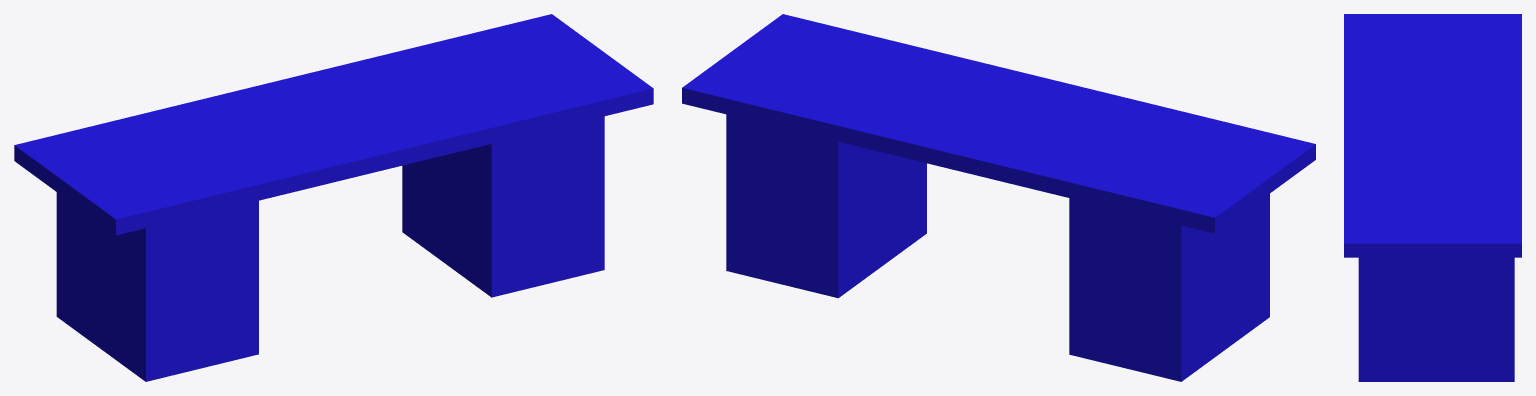
The model's file is POC_bureau.glb.
3 renders of one model, left to right at view 1: azimuth 30°, elevation 25°; view 2: azimuth 150°, elevation 25°; view 3: azimuth 270°, elevation 25°, orthographic. The views are drawn at different scales.
Parts seen in each view (by area): view 1: Bureau; view 2: Bureau; view 3: Bureau.
Part boxes in pixels (left/top/right/bottom): Bureau: left=14, top=14, right=653, bottom=381; Bureau: left=682, top=14, right=1315, bottom=381; Bureau: left=1344, top=14, right=1521, bottom=381.
Size of the model in its own units: 6.95 by 2.2 by 2.28.
